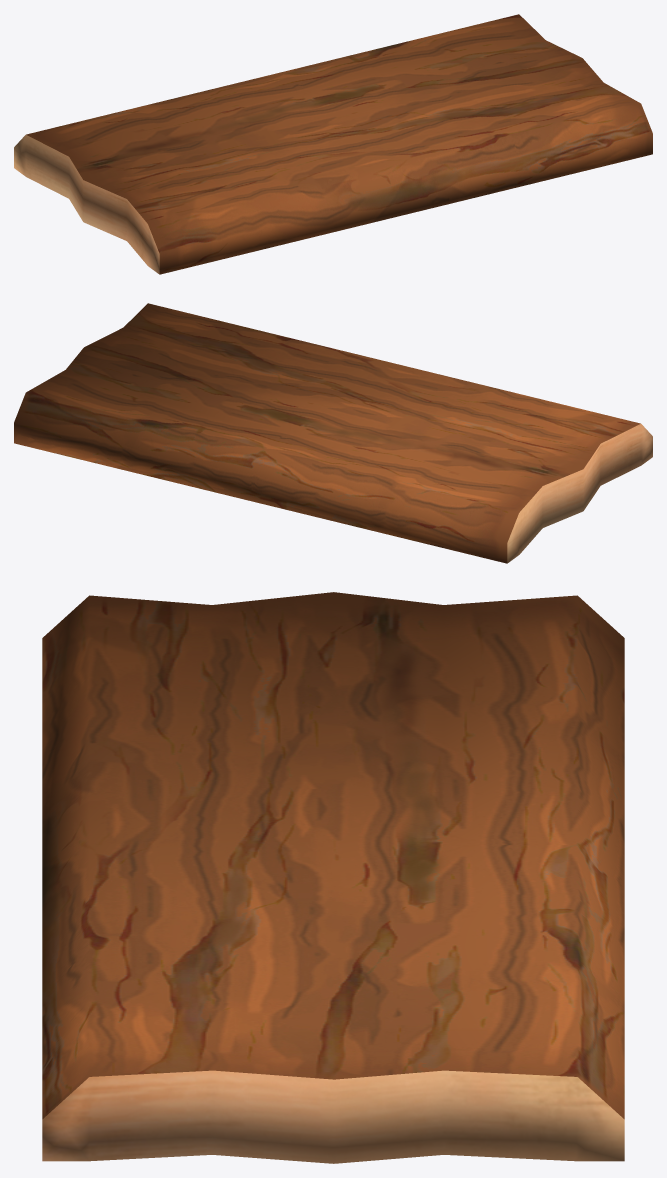
File: Model_Table_Wood.fbx
3 views of the same model, one above another, from view 1: azimuth 30°, elevation 25°; view 2: azimuth 150°, elevation 25°; view 3: azimuth 270°, elevation 25° (orthographic). The views are drawn at different scales.
Visible parts, largest first — view 1: Table_Wood; view 2: Table_Wood; view 3: Table_Wood.
Boxes of the visible parts, x1,y1,x2,y2 form: Table_Wood: (14, 14, 652, 274); Table_Wood: (14, 303, 652, 563); Table_Wood: (42, 592, 624, 1163).
Bounding box in the file's own units: 3.96 × 0.3192 × 2.
